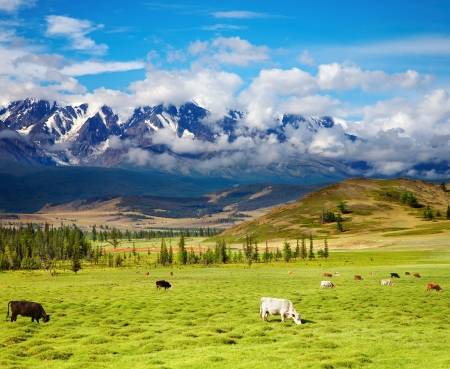sheep: (257, 296, 304, 325), (5, 298, 51, 325), (153, 279, 172, 291), (426, 281, 443, 293), (318, 279, 336, 290), (378, 277, 391, 286), (388, 270, 401, 279), (351, 273, 362, 282)
